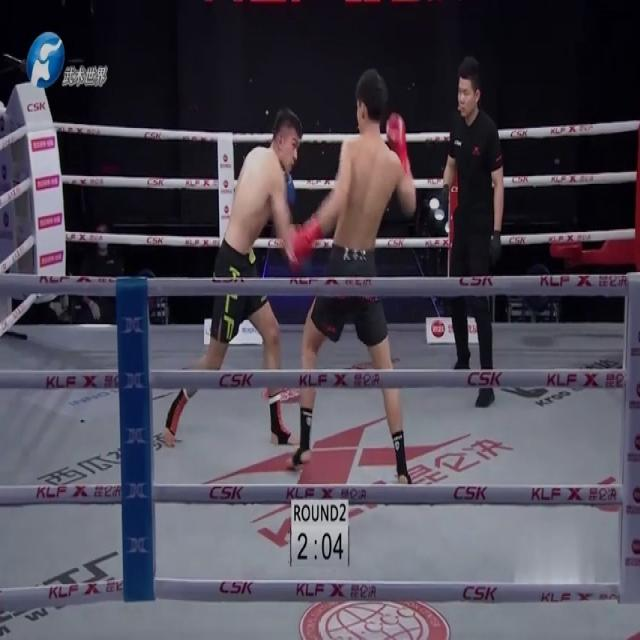fight: (158, 70, 420, 487)
non-fight: (433, 52, 508, 408)
